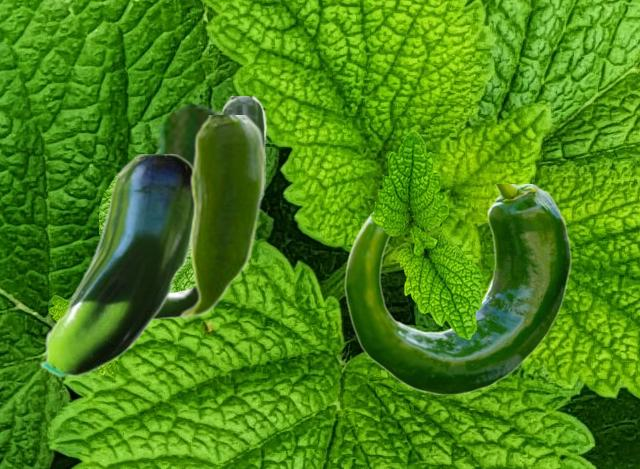green_chili: (344, 184, 571, 393), (39, 154, 192, 377), (155, 96, 266, 319), (178, 115, 264, 319), (149, 101, 233, 300)
